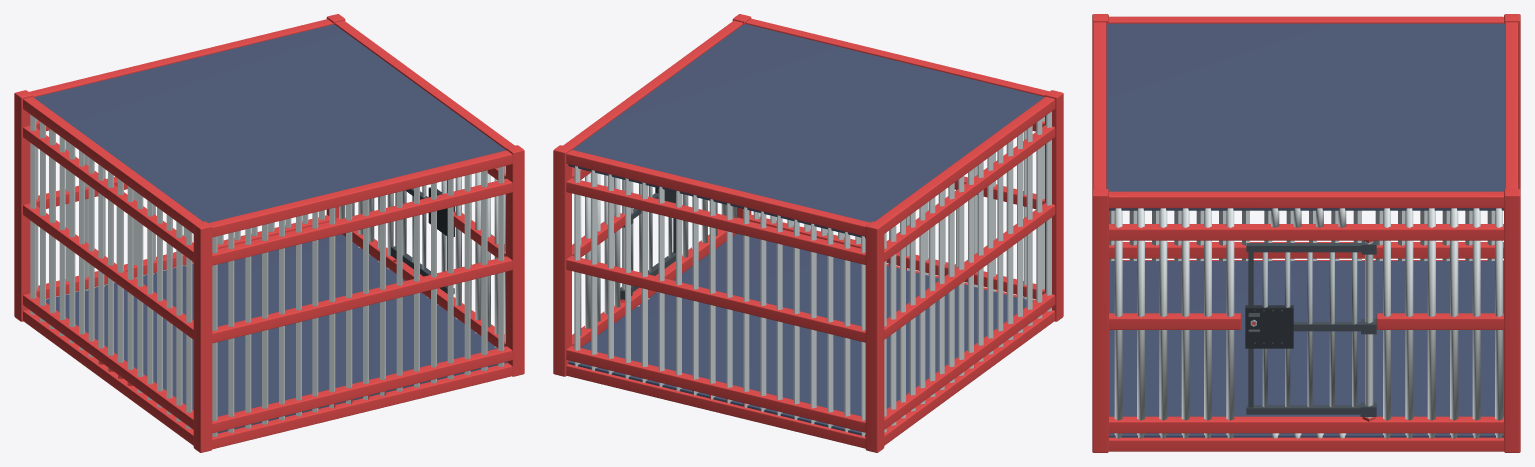
Rendered from Jail.fbx.
The picture shows the model from 3 angles, left to right: view 1: azimuth 30°, elevation 25°; view 2: azimuth 150°, elevation 25°; view 3: azimuth 270°, elevation 25°; orthographic projection. The views are drawn at different scales.
Visible parts, largest first — view 1: IronBars, Door; view 2: IronBars, Door; view 3: IronBars, Door.
Boxes of the visible parts, bbox=[...] form: IronBars: bbox=[14, 14, 524, 452]; Door: bbox=[391, 180, 454, 293]; IronBars: bbox=[553, 14, 1063, 452]; Door: bbox=[620, 181, 675, 299]; IronBars: bbox=[1092, 14, 1520, 452]; Door: bbox=[1245, 240, 1376, 416].
Size of the model in its own units: 582 by 385 by 579.
3 materials, 3 textured.
